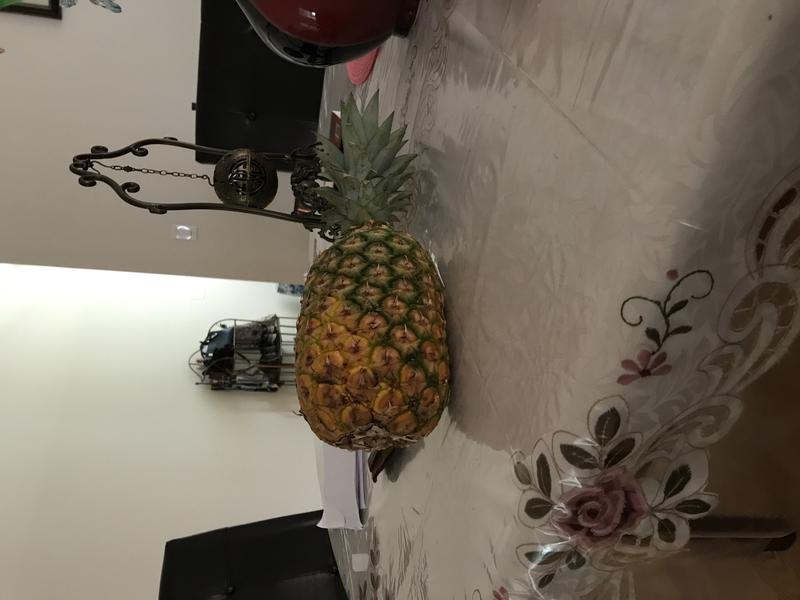pineapple: (278, 81, 460, 458)
